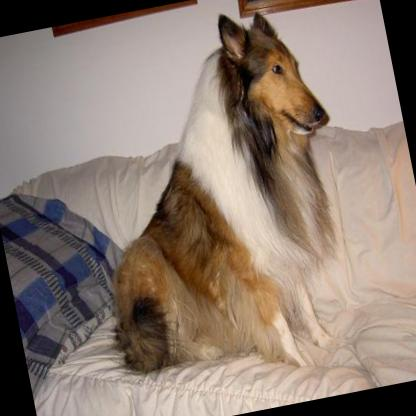collie: (51, 0, 377, 407)
